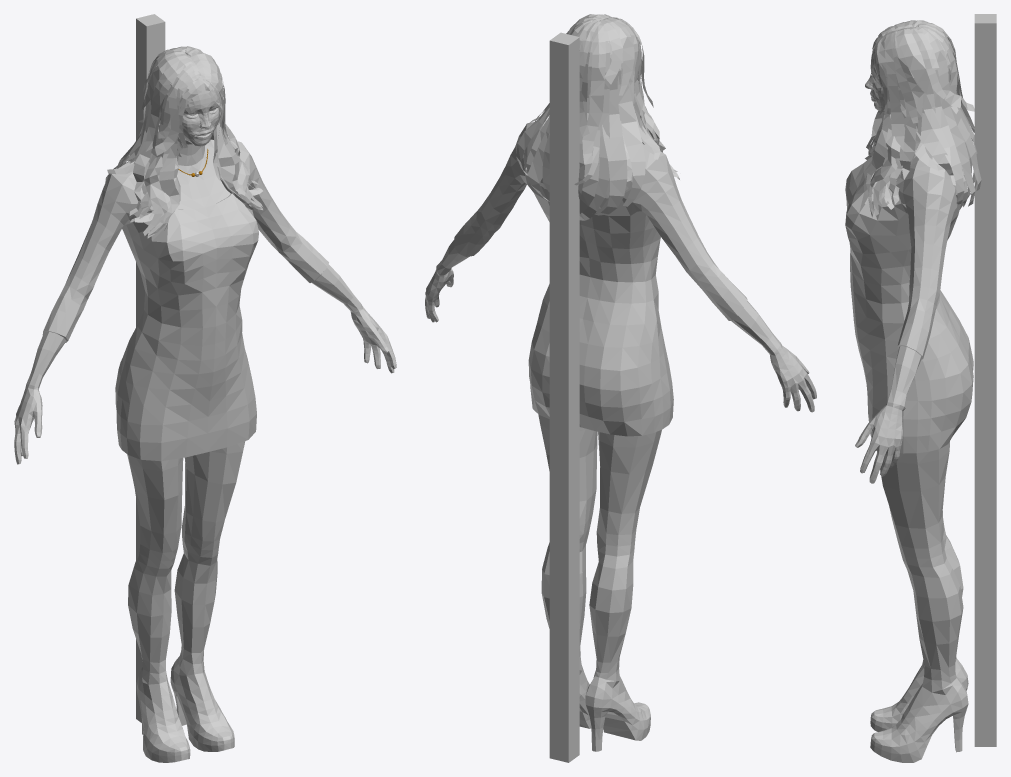
The model's file is goldchain.obj.
3 renders of one model, left to right at view 1: azimuth 30°, elevation 25°; view 2: azimuth 150°, elevation 25°; view 3: azimuth 270°, elevation 25°, orthographic. The views are drawn at different scales.
Parts seen in each view (by area): view 1: Object.1, Cube_Cube.001; view 2: Object.1, Cube_Cube.001; view 3: Object.1, Cube_Cube.001.
Part boxes in pixels (bbox=[...]): Object.1: bbox=[14, 46, 396, 762]; Cube_Cube.001: bbox=[136, 14, 165, 722]; Object.1: bbox=[425, 14, 816, 751]; Cube_Cube.001: bbox=[549, 32, 579, 762]; Object.1: bbox=[845, 20, 981, 762]; Cube_Cube.001: bbox=[974, 14, 996, 746].
Size of the model in its own units: 40.63 by 72.06 by 13.65.
